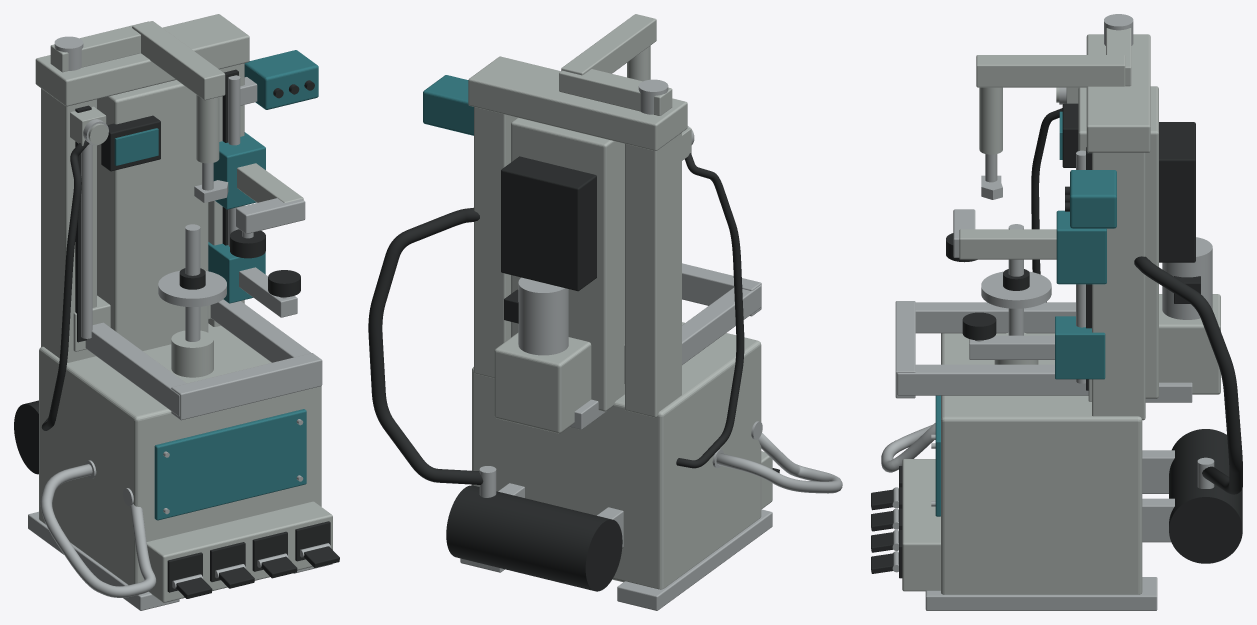
3 views of the same model, side by side, from view 1: azimuth 30°, elevation 25°; view 2: azimuth 150°, elevation 25°; view 3: azimuth 270°, elevation 25° (orthographic). The views are drawn at different scales.
Visible parts, largest first — view 1: Lower machine cabinet, Central rear housing, Front service panel, Rear outer guide column -0.26, Upper connecting bridge, Front pedal housing, Front lift crossbar, Low attached wheel lift cradle, Forward lift rail -0.22, Forward mounting arm, Upper side control pod, Forward lift rail 0.22 (+35 smaller); view 2: Lower machine cabinet, Rear outer guide column -0.26, Central rear housing, Attached horizontal rear air tank, Rear closed electrical enclosure, Upper connecting bridge, Rear outer guide column 0.26, Rear hydraulic reservoir, Rear broad hose loop, Rear motor exterior, Left hanging inflation hose, Ground mounting foot -0.27 (+8 smaller); view 3: Lower machine cabinet, Rear outer guide column 0.26, Attached horizontal rear air tank, Upper connecting bridge, Forward lift rail 0.22, Rear closed electrical enclosure, Forward mounting arm, Front pedal housing, Central rear housing, Rear broad hose loop, Ground mounting foot 0.27, Rear hydraulic reservoir (+23 smaller).
Part boxes in pixels (box(x1,y1,x2,y2)): Lower machine cabinet: box(39, 323, 321, 585); Central rear housing: box(97, 80, 208, 350); Front service panel: box(154, 409, 306, 520); Rear outer guide column -0.26: box(41, 88, 96, 362); Upper connecting bridge: box(35, 14, 249, 106); Front pedal housing: box(146, 501, 332, 602); Front lift crossbar: box(171, 353, 322, 420); Low attached wheel lift cradle: box(40, 464, 156, 597); Forward lift rail -0.22: box(85, 322, 186, 416); Forward mounting arm: box(132, 21, 225, 100); Upper side control pod: box(244, 50, 318, 109); Forward lift rail 0.22: box(210, 299, 311, 362); Lower machine cabinet: box(472, 322, 761, 589); Rear outer guide column -0.26: box(625, 133, 681, 417); Central rear housing: box(511, 117, 624, 411); Attached horizontal rear air tank: box(446, 485, 622, 591); Rear closed electrical enclosure: box(501, 156, 596, 291); Upper connecting bridge: box(468, 56, 687, 151); Rear outer guide column 0.26: box(474, 107, 517, 378); Rear hydraulic reservoir: box(494, 332, 591, 433); Rear broad hose loop: box(368, 207, 483, 484); Rear motor exterior: box(518, 277, 568, 355); Left hanging inflation hose: box(676, 153, 744, 468); Ground mounting foot -0.27: box(617, 509, 772, 610); Lower machine cabinet: box(941, 333, 1142, 594); Rear outer guide column 0.26: box(1092, 152, 1145, 420); Attached horizontal rear air tank: box(1169, 429, 1242, 563); Upper connecting bridge: box(1086, 34, 1150, 152); Forward lift rail 0.22: box(897, 364, 1088, 395); Rear closed electrical enclosure: box(1159, 122, 1195, 262); Forward mounting arm: box(976, 55, 1125, 87); Front pedal housing: box(902, 459, 940, 591); Central rear housing: box(1078, 86, 1158, 398); Rear broad hose loop: box(1134, 256, 1242, 494); Ground mounting foot 0.27: box(925, 577, 1157, 610); Rear hydraulic reservoir: box(1159, 294, 1220, 394).
Size of the model in its own units: 110 by 167 by 111.
